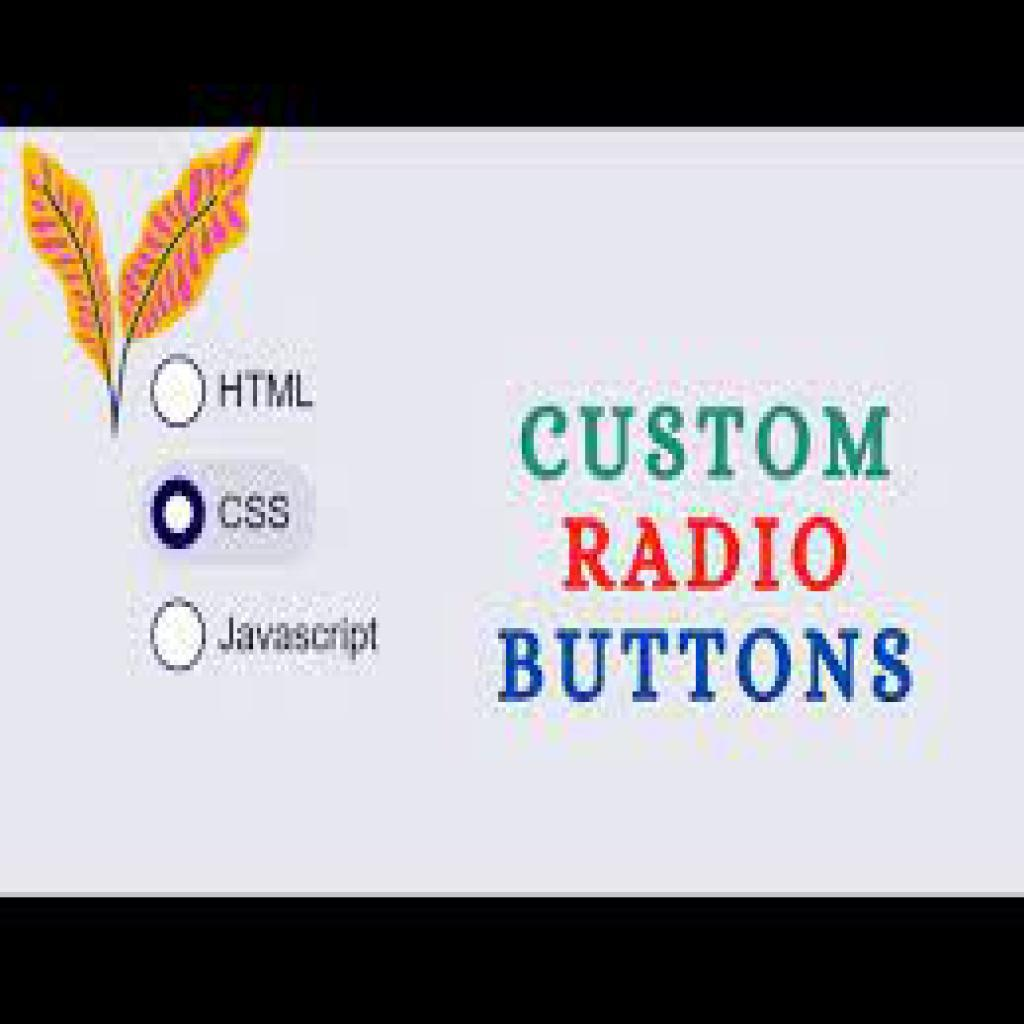radio: (149, 349, 209, 431), (149, 598, 212, 670), (149, 476, 210, 549)
